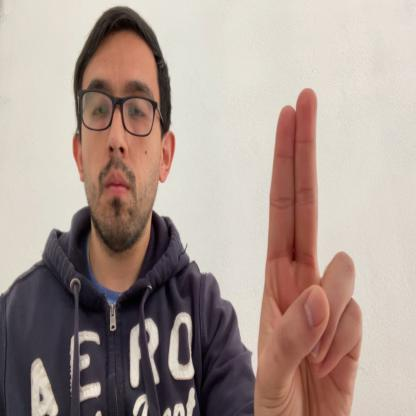U: (253, 88, 364, 415)
